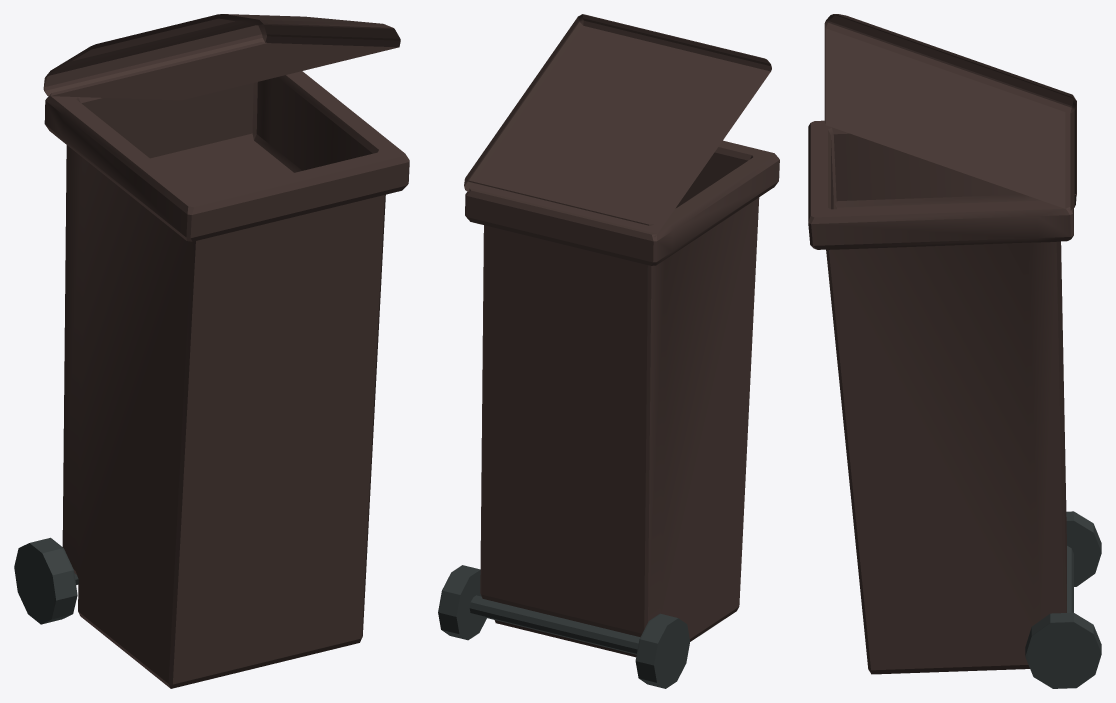
The model's file is Poubelle Maison.fbx.
3 renders of one model, left to right at view 1: azimuth 30°, elevation 25°; view 2: azimuth 150°, elevation 25°; view 3: azimuth 270°, elevation 25°, orthographic. The views are drawn at different scales.
Parts seen in each view (by area): view 1: Cube.001; view 2: Cube.001; view 3: Cube.001.
Boxes of the visible parts, bbox=[...] form: Cube.001: bbox=[14, 14, 409, 688]; Cube.001: bbox=[438, 14, 779, 688]; Cube.001: bbox=[808, 14, 1101, 688].
Size of the model in its own units: 61.05 by 147 by 68.06.
